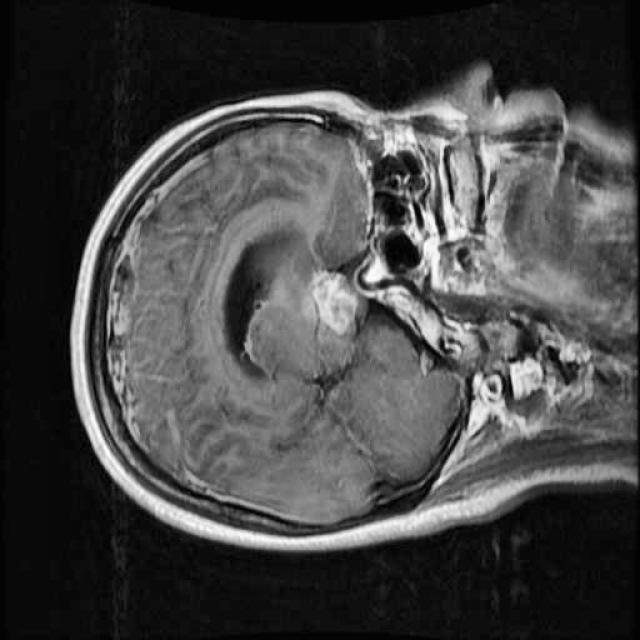Tumor: (288, 242, 387, 362)
